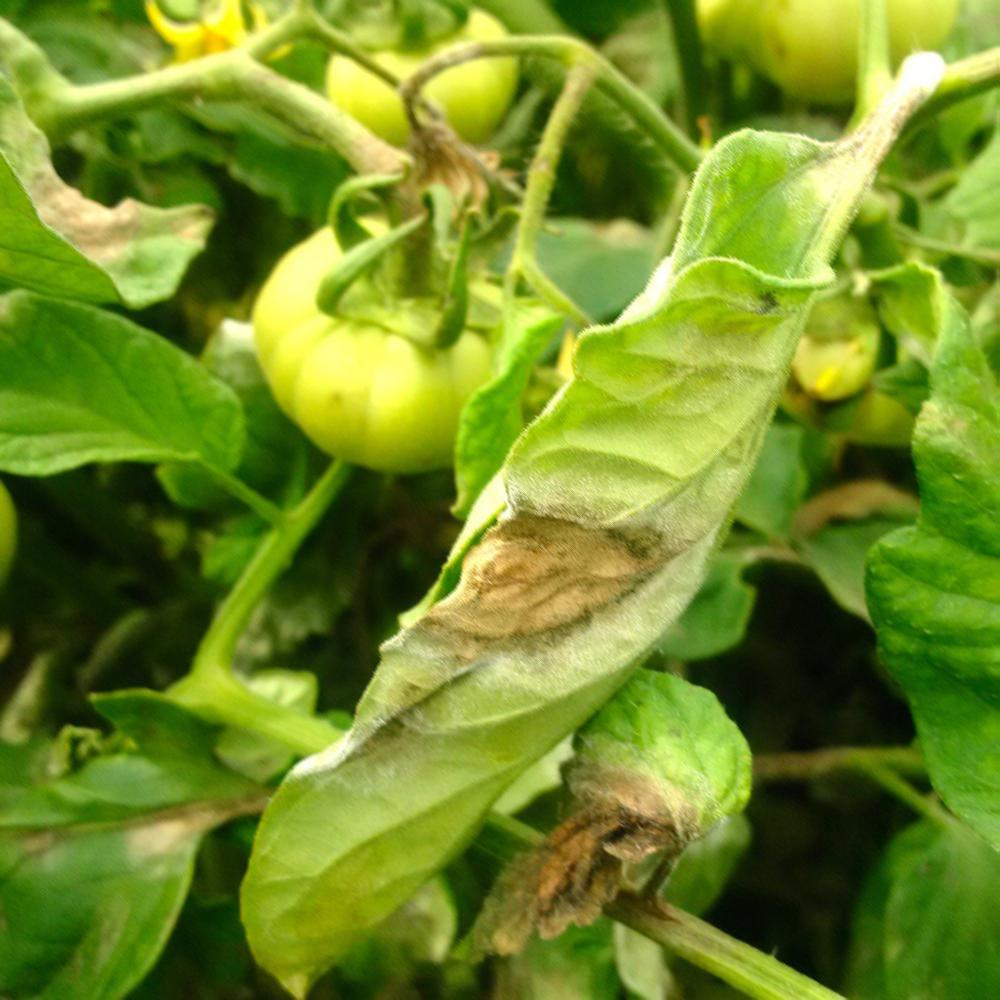Tomato leaf late blight: (213, 68, 913, 1000), (447, 667, 769, 968)
